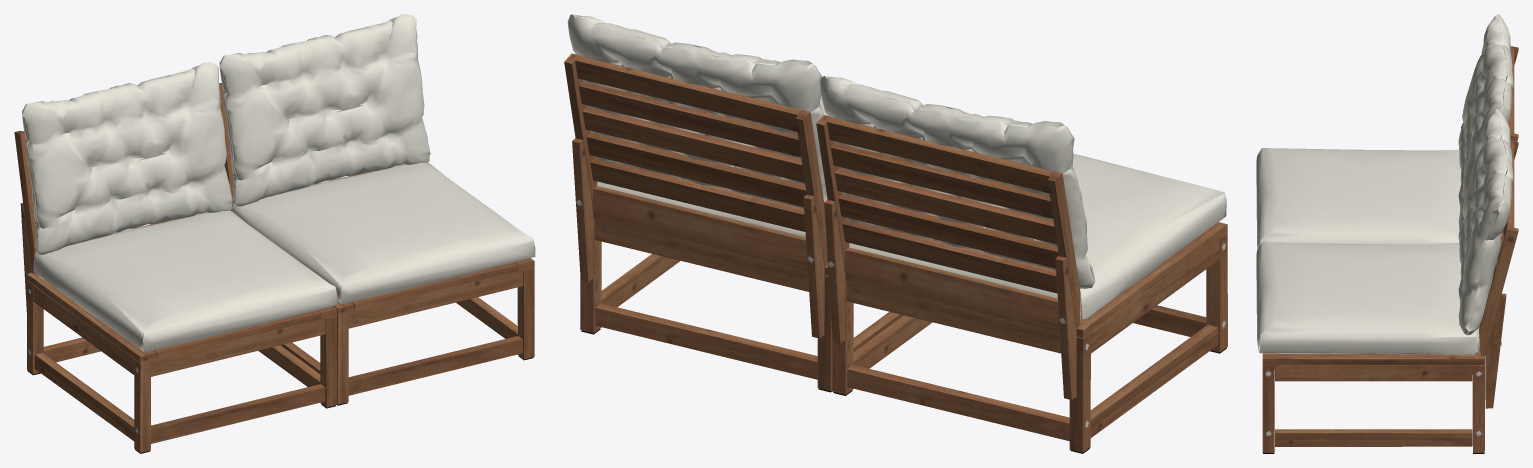
File: nammaro_sofa_dwuosobowa_49575218.glb
The picture shows the model from 3 angles, left to right: view 1: azimuth 30°, elevation 25°; view 2: azimuth 150°, elevation 25°; view 3: azimuth 270°, elevation 25°; orthographic projection. The views are drawn at different scales.
Visible parts, largest first — view 1: nammaro_sofa_dwuosobowa_49575218; view 2: nammaro_sofa_dwuosobowa_49575218; view 3: nammaro_sofa_dwuosobowa_49575218.
Part boxes in pixels (x1=…): nammaro_sofa_dwuosobowa_49575218: x1=14, y1=14, x2=535, y2=453; nammaro_sofa_dwuosobowa_49575218: x1=564, y1=14, x2=1227, y2=453; nammaro_sofa_dwuosobowa_49575218: x1=1256, y1=14, x2=1518, y2=453.
Bounding box in the file's own units: 1.27 × 0.7978 × 0.7426.
1 material, 1 textured.
